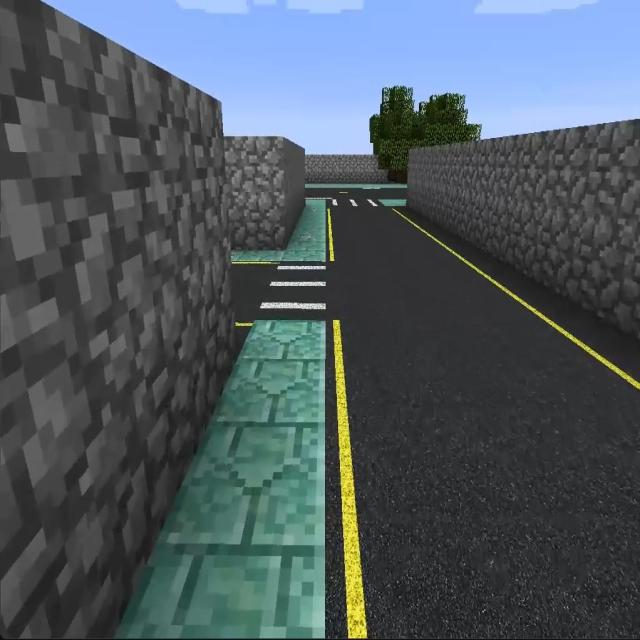crosswalk: (254, 263, 328, 318), (330, 195, 386, 211)
road: (327, 207, 635, 630), (237, 263, 271, 338)
sidewalk: (117, 320, 326, 639), (232, 199, 326, 263), (306, 183, 406, 189), (379, 198, 406, 206)
